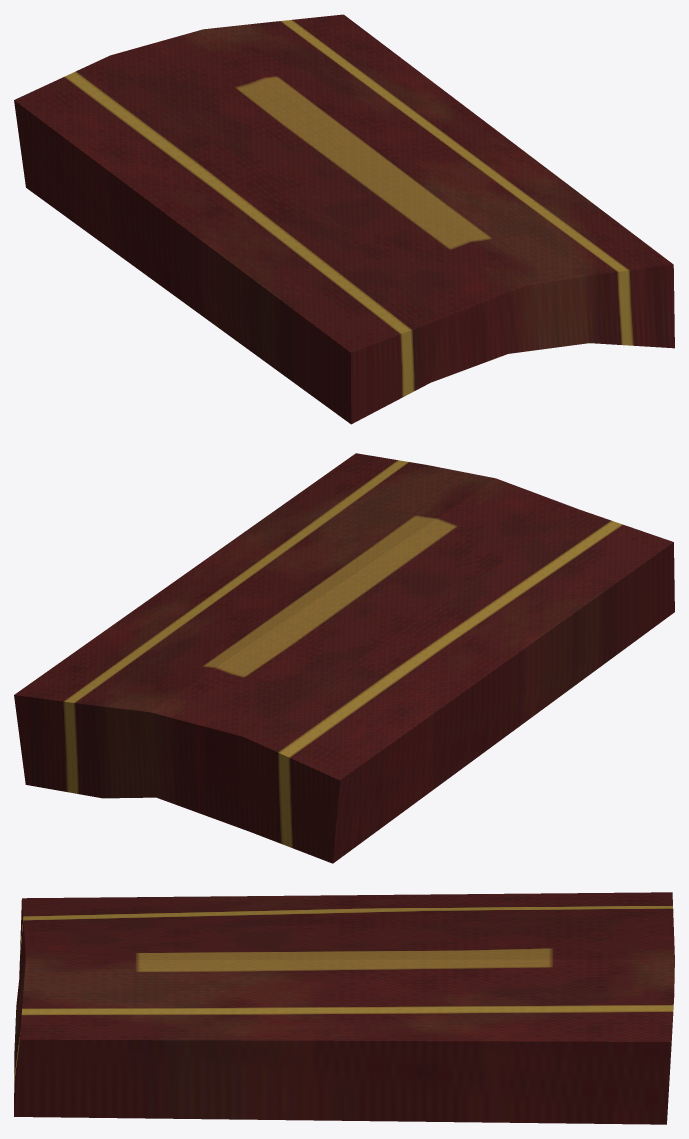
File: Paperback.fbx
3 renders of one model, top to bottom at view 1: azimuth 30°, elevation 25°; view 2: azimuth 150°, elevation 25°; view 3: azimuth 270°, elevation 25°, orthographic. The views are drawn at different scales.
Parts seen in each view (by area): view 1: Paperback; view 2: Paperback; view 3: Paperback.
Part boxes in pixels (x1,y1,x2,y2): Paperback: (14,14,674,424); Paperback: (14,453,674,863); Paperback: (14,892,674,1124).
Bounding box in the file's own units: 0.1406 × 0.0454 × 0.2529.
Materials: 1 (1 with a texture image).
